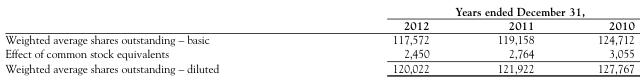table: (4, 3, 633, 74)
table column: (4, 3, 305, 74), (305, 3, 462, 74), (462, 3, 565, 74), (565, 3, 633, 74)
table column header: (4, 3, 633, 32)
table row: (4, 17, 633, 32), (4, 3, 633, 17), (4, 32, 633, 46), (4, 46, 633, 60), (4, 60, 633, 74)
table spanning cell: (305, 3, 633, 17)
